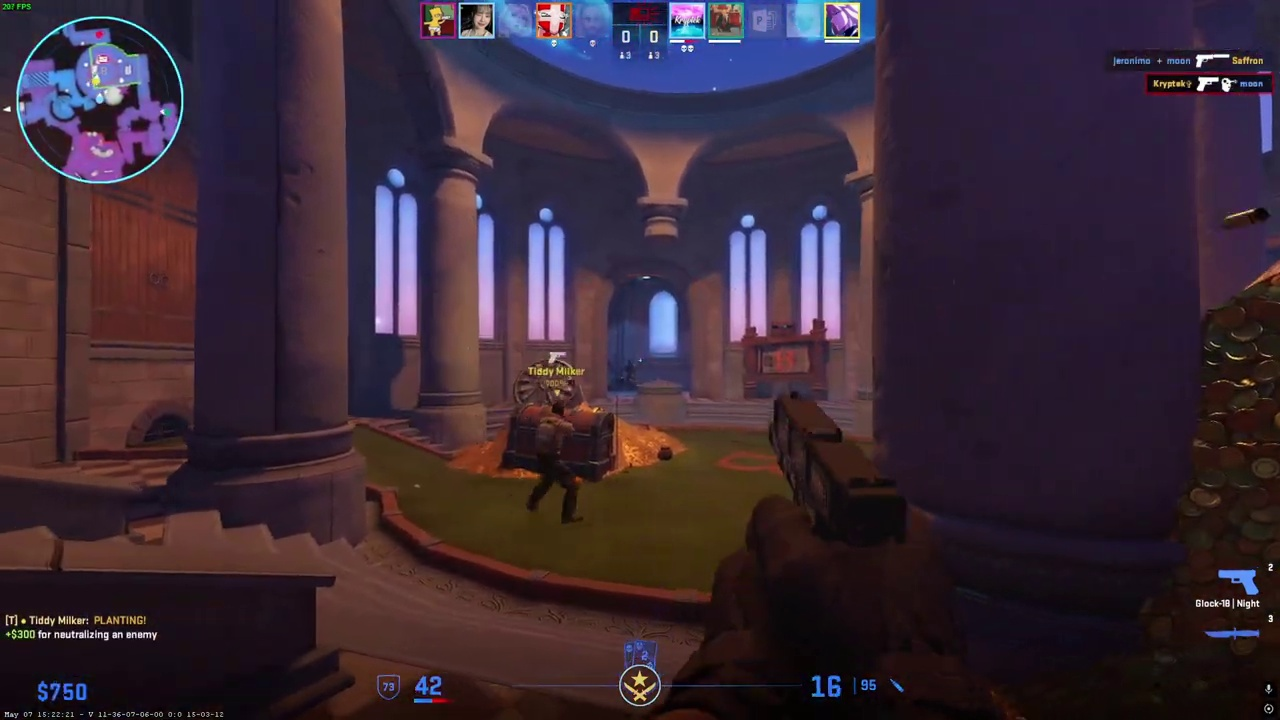CT: (625, 360, 636, 387)
Terrorist: (530, 402, 582, 524)
